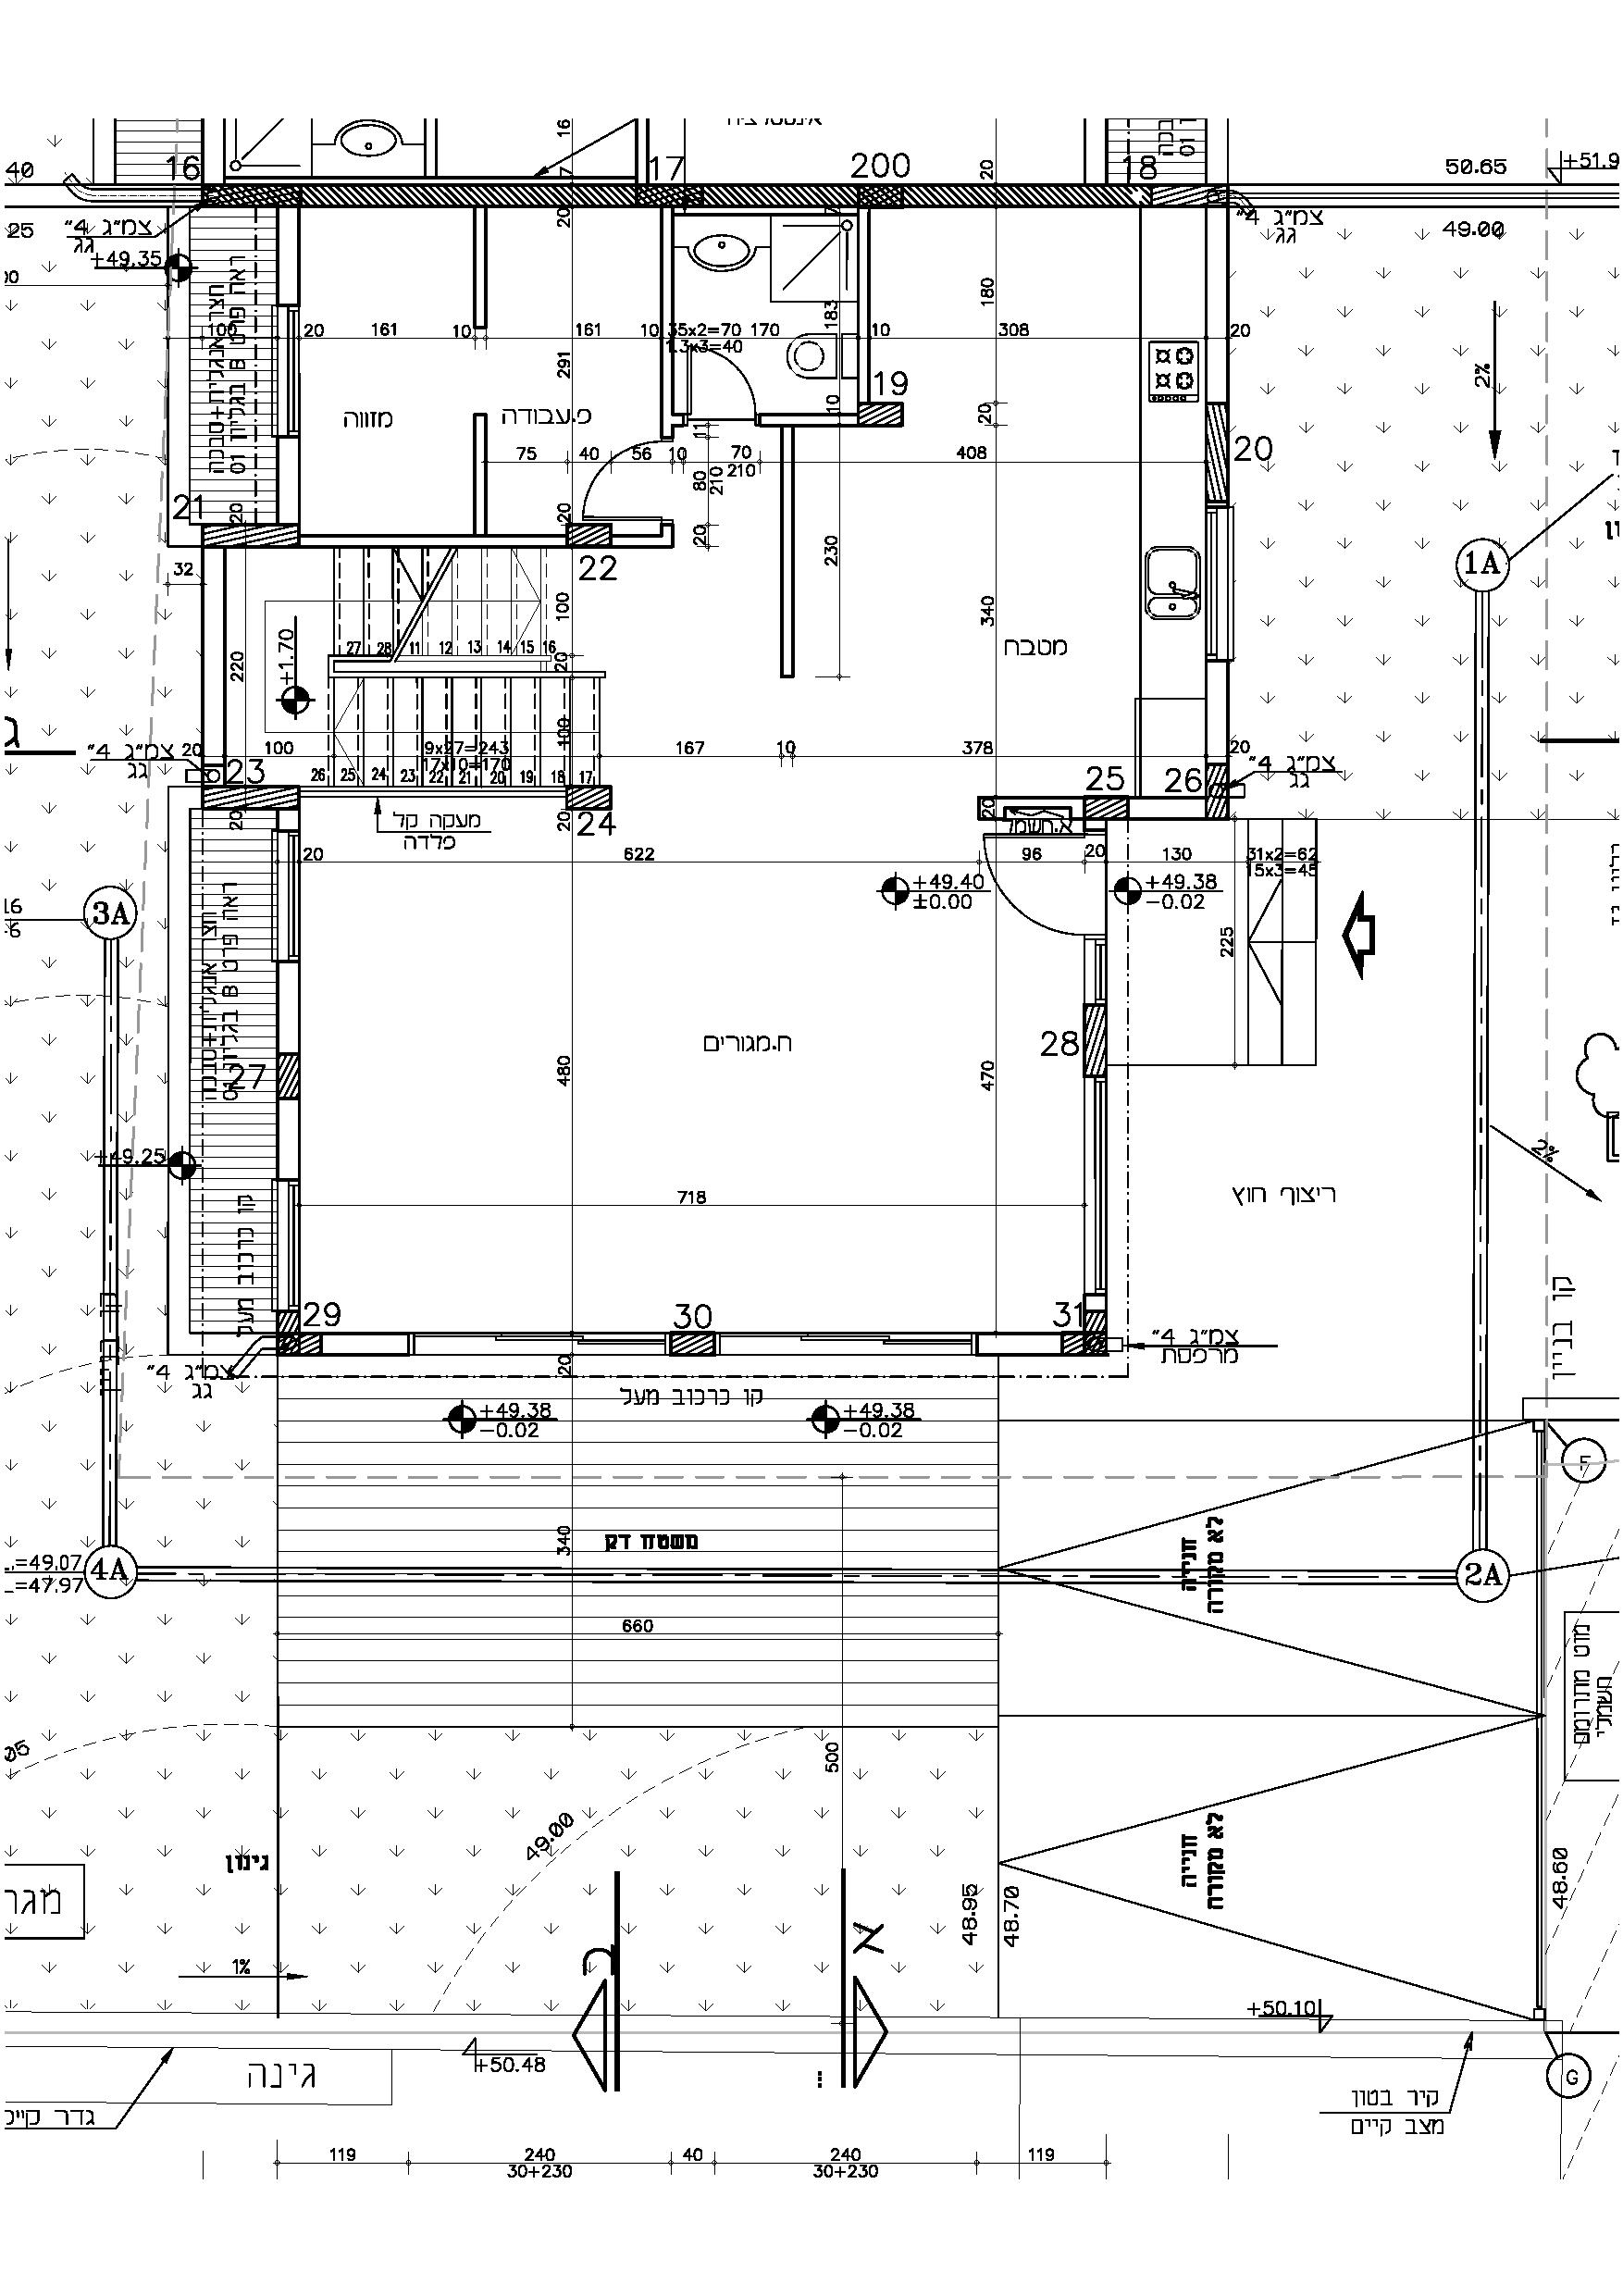wall: (202, 184, 1228, 204), (202, 523, 299, 543), (204, 785, 300, 805), (566, 787, 611, 808)
window: (411, 1332, 669, 1356), (717, 1332, 975, 1356), (1082, 1077, 1107, 1295), (1207, 506, 1235, 662), (274, 1180, 302, 1314), (274, 827, 302, 961), (274, 302, 302, 436)
